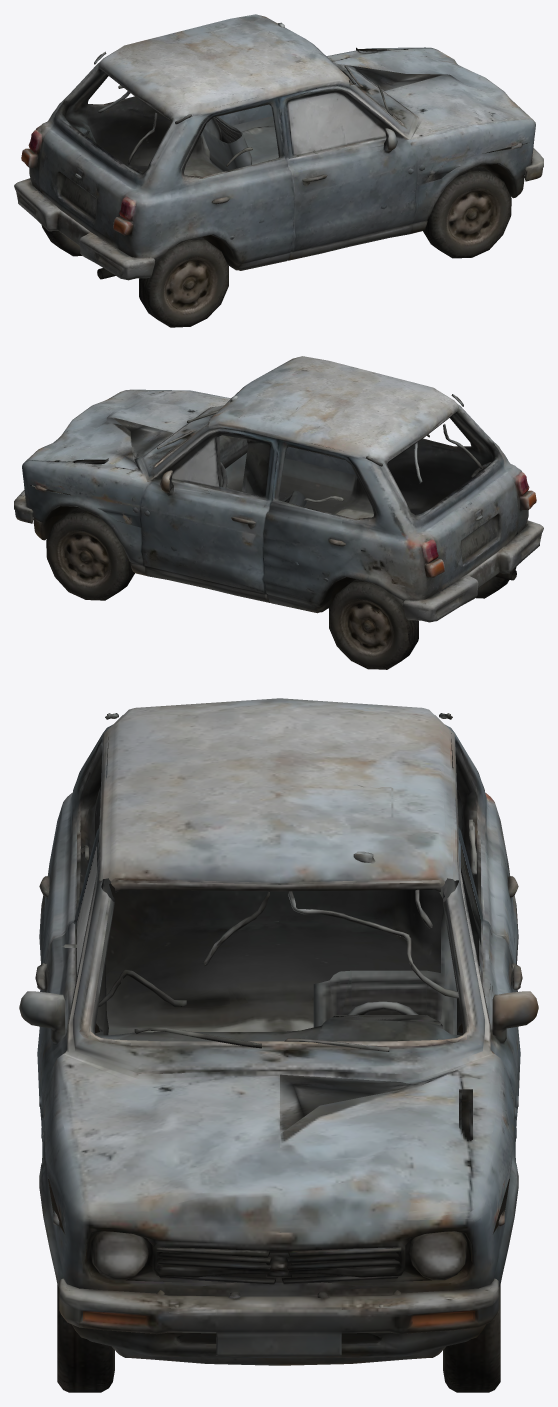
The model's file is wrecked_sedan_01_q3.fbx.
3 renders of one model, top to bottom at view 1: azimuth 30°, elevation 25°; view 2: azimuth 150°, elevation 25°; view 3: azimuth 270°, elevation 25°, orthographic. The views are drawn at different scales.
Parts seen in each view (by area): view 1: tripo_node_f0f6bc82; view 2: tripo_node_f0f6bc82; view 3: tripo_node_f0f6bc82.
Boxes of the visible parts, x1,y1,x2,y2 form: tripo_node_f0f6bc82: (14, 14, 543, 327); tripo_node_f0f6bc82: (14, 356, 543, 669); tripo_node_f0f6bc82: (19, 698, 538, 1392).
Bounding box in the file's own units: 0.9961 × 0.4599 × 0.5108.
Materials: 1 (1 with a texture image).
